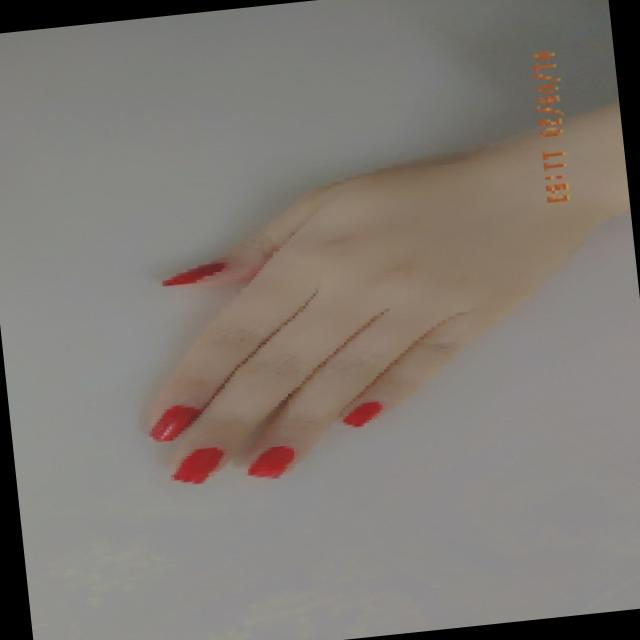Nail: (148, 404, 199, 441), (170, 446, 222, 482), (247, 444, 293, 477), (162, 261, 225, 285), (341, 401, 380, 425)
